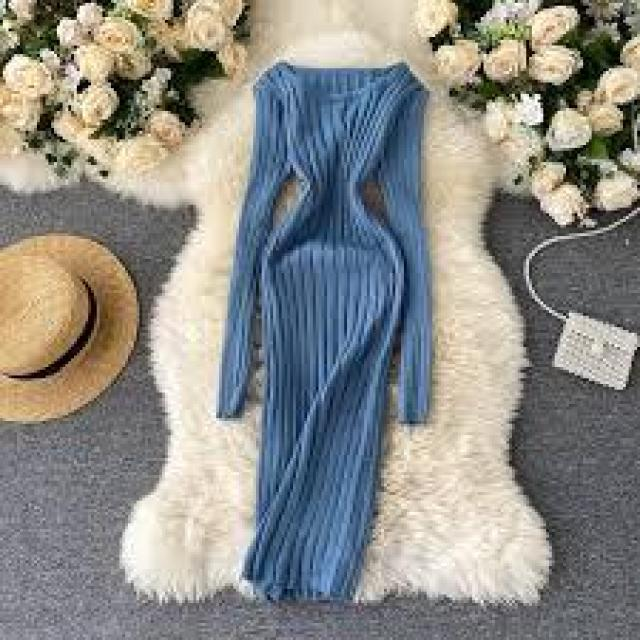dress: (211, 63, 444, 612)
